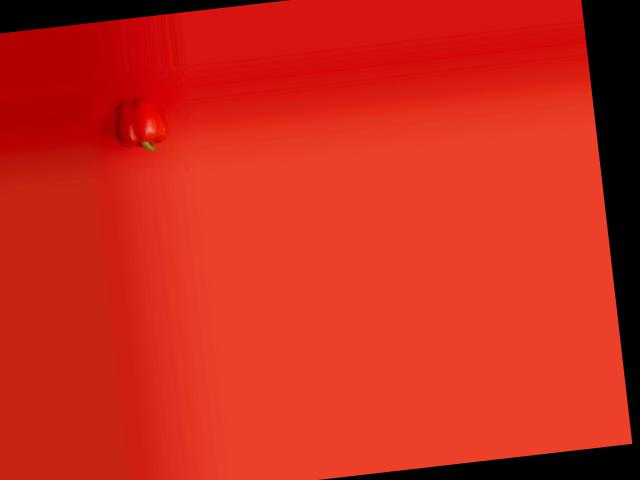bell_pepper: (109, 91, 167, 156)
